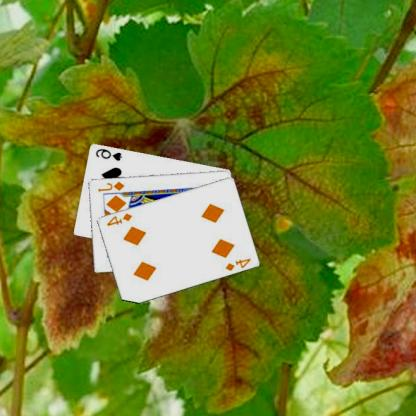4D: (106, 210, 134, 227), (224, 256, 253, 272)
6S: (95, 145, 125, 162)
JD: (97, 178, 128, 193)
